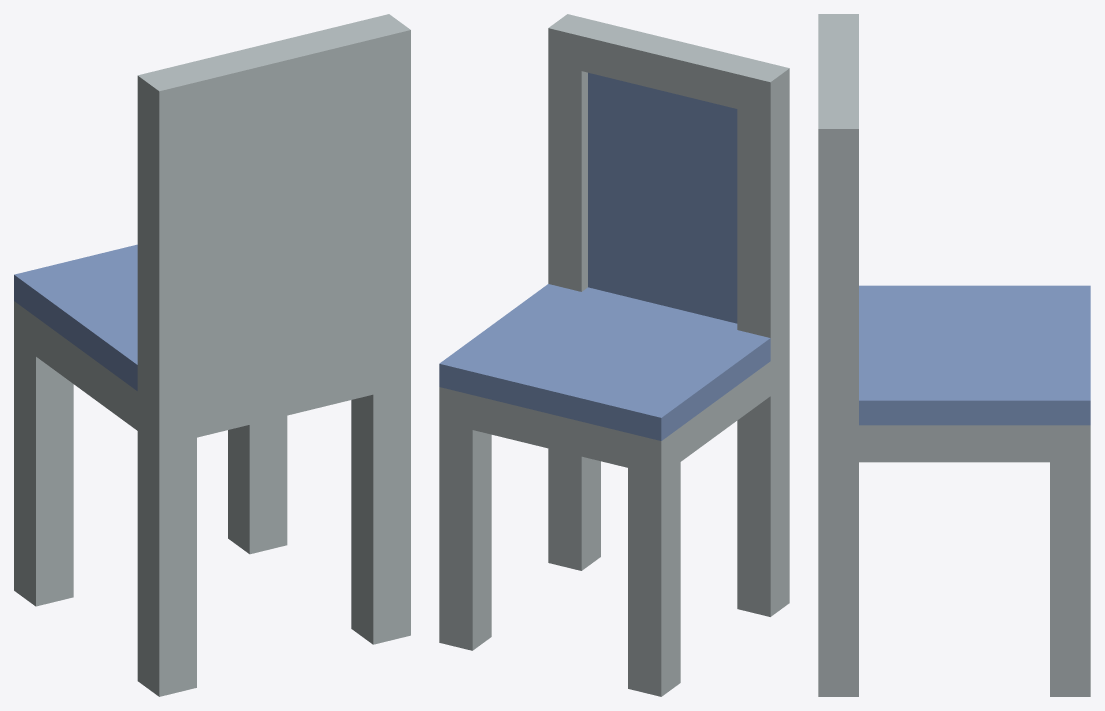
The model's file is chair.fbx.
3 views of the same model, side by side, from view 1: azimuth 30°, elevation 25°; view 2: azimuth 150°, elevation 25°; view 3: azimuth 270°, elevation 25° (orthographic). The views are drawn at different scales.
Parts seen in each view (by area): view 1: chairModernCushion(Clone); view 2: chairModernCushion(Clone); view 3: chairModernCushion(Clone).
Part boxes in pixels (x1=…): chairModernCushion(Clone): x1=14, y1=14, x2=410, y2=696; chairModernCushion(Clone): x1=439, y1=14, x2=789, y2=696; chairModernCushion(Clone): x1=818, y1=14, x2=1090, y2=696.
Bounding box in the file's own units: 0.4348 × 1 × 0.4348.
